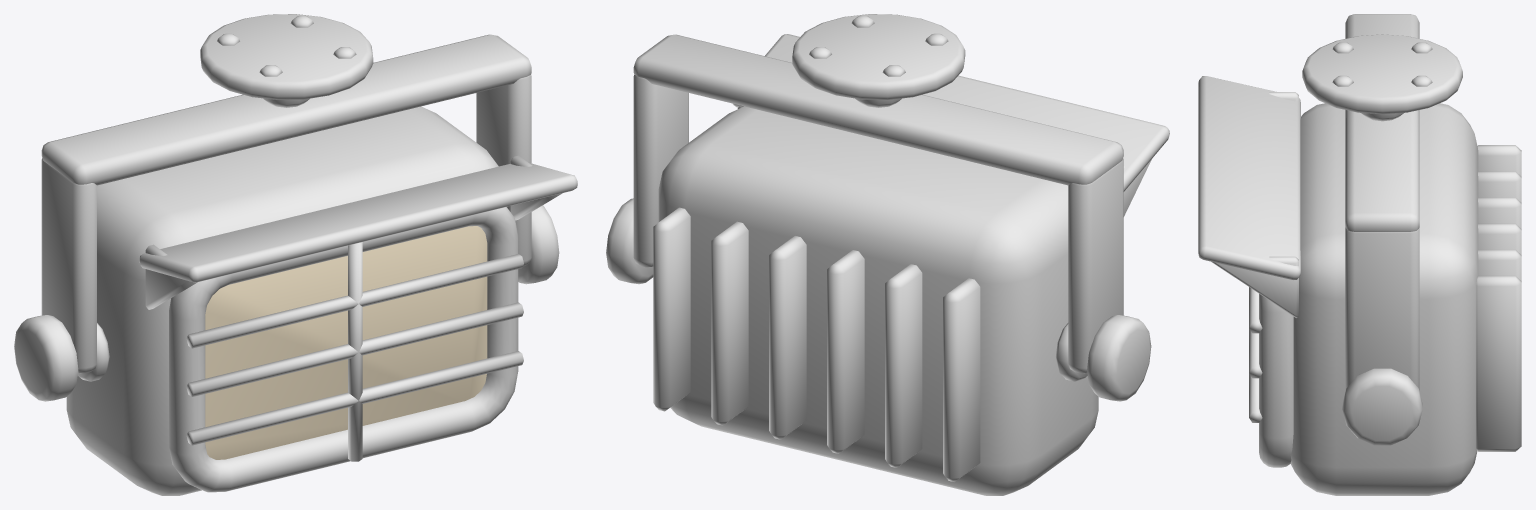
The model's file is Prop.Floodlight.fbx.
The picture shows the model from 3 angles, left to right: view 1: azimuth 30°, elevation 25°; view 2: azimuth 150°, elevation 25°; view 3: azimuth 270°, elevation 25°; orthographic projection. The views are drawn at different scales.
Parts seen in each view (by area): view 1: Trim, Housing, Lens; view 2: Trim, Housing; view 3: Housing, Trim.
Boxes of the visible parts, <box> form: Trim: <box>14,14,559,492</box>; Housing: <box>66,106,577,495</box>; Lens: <box>205,226,487,459</box>; Trim: <box>606,14,1151,481</box>; Housing: <box>658,34,1169,495</box>; Housing: <box>1198,76,1478,495</box>; Trim: <box>1249,14,1521,467</box>.
Size of the model in its own units: 176 by 131 by 105.
